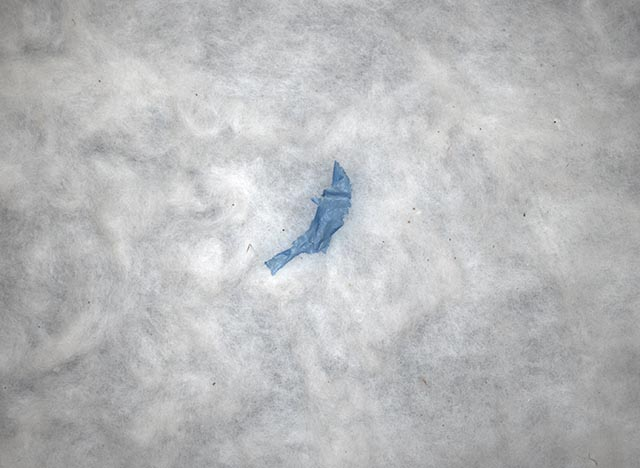plastic film: (261, 158, 354, 277)
